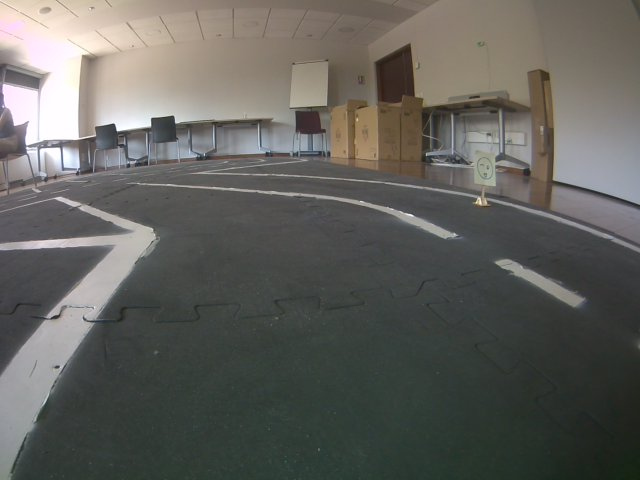Smiley: (472, 150, 498, 187)
